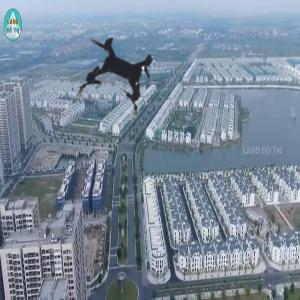drone: (49, 4, 193, 148)
